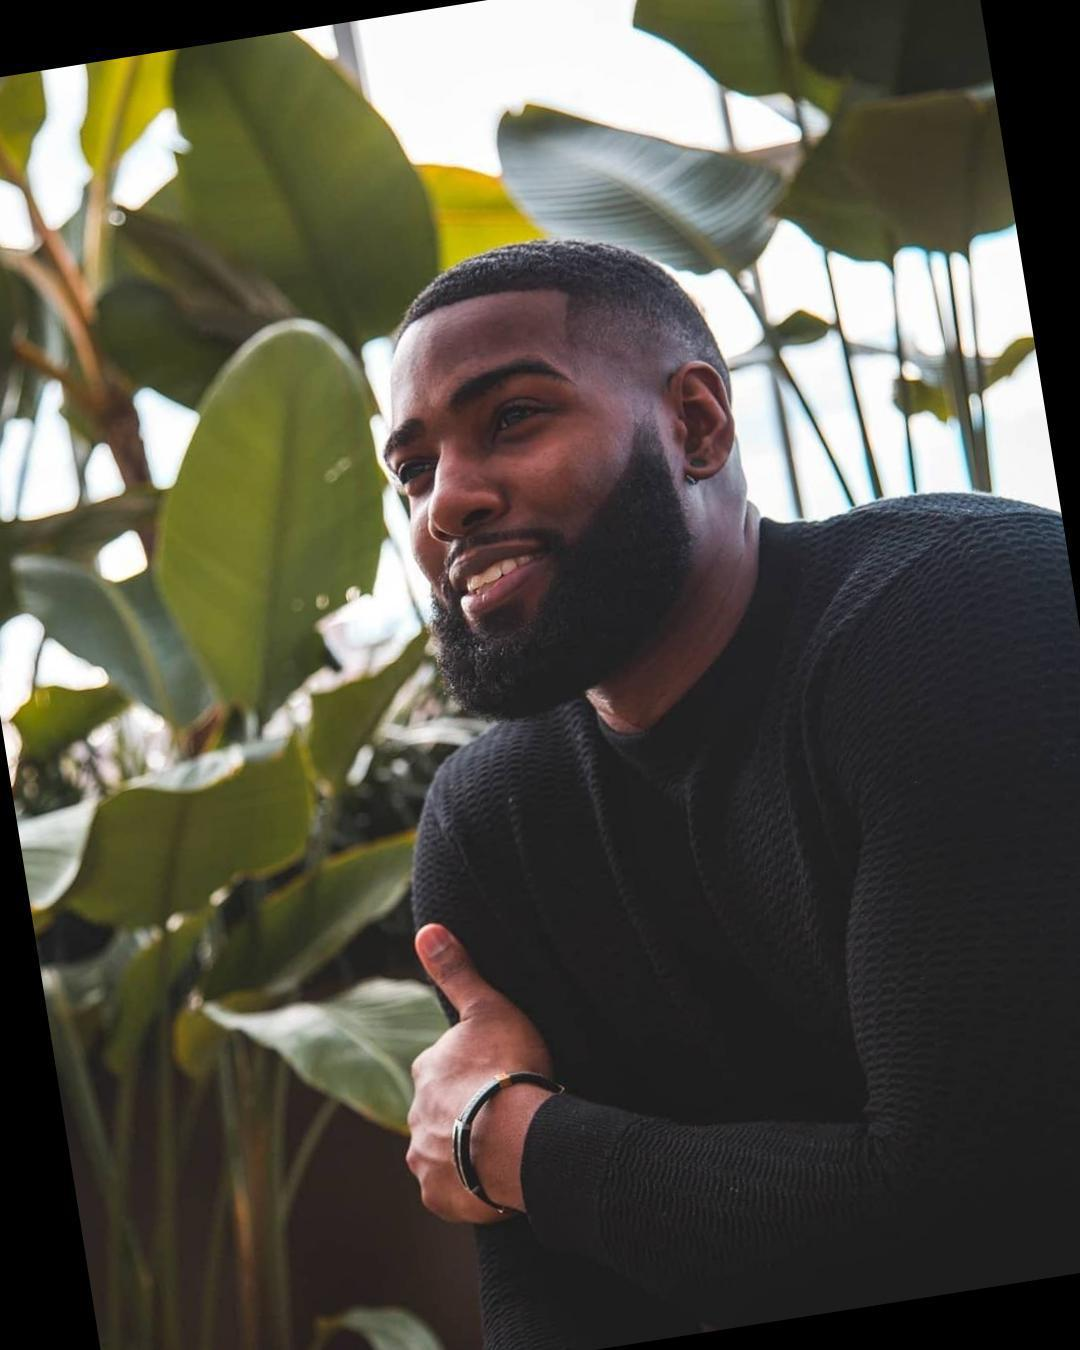Sober: (375, 334, 642, 687)
